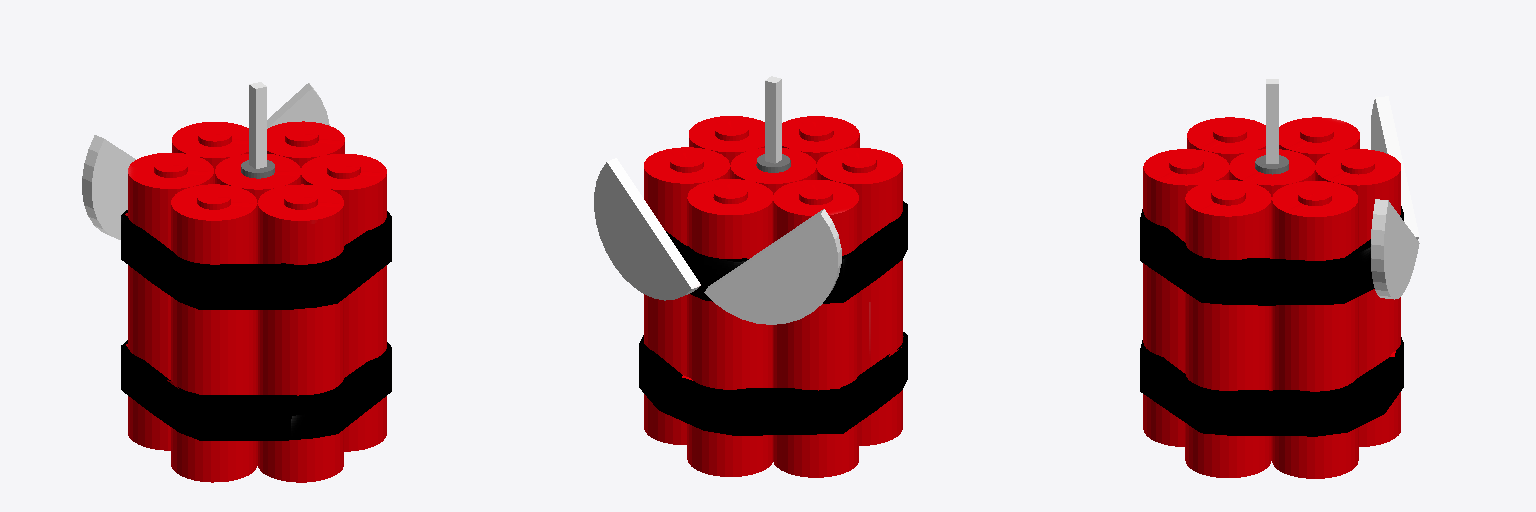
The picture shows the model from 3 angles: view 1: azimuth 30°, elevation 25°; view 2: azimuth 150°, elevation 25°; view 3: azimuth 270°, elevation 25°; orthographic projection.
Visible parts, largest first — view 1: 円柱.001; view 2: 円柱.001; view 3: 円柱.001.
Part boxes in pixels (x1,y1,x2,y2): 円柱.001: (82,82,391,482); 円柱.001: (594,76,907,477); 円柱.001: (1140,79,1419,478).
Size of the model in its own units: 1.95 by 2.66 by 1.93.
Materials: 1 (1 with a texture image).